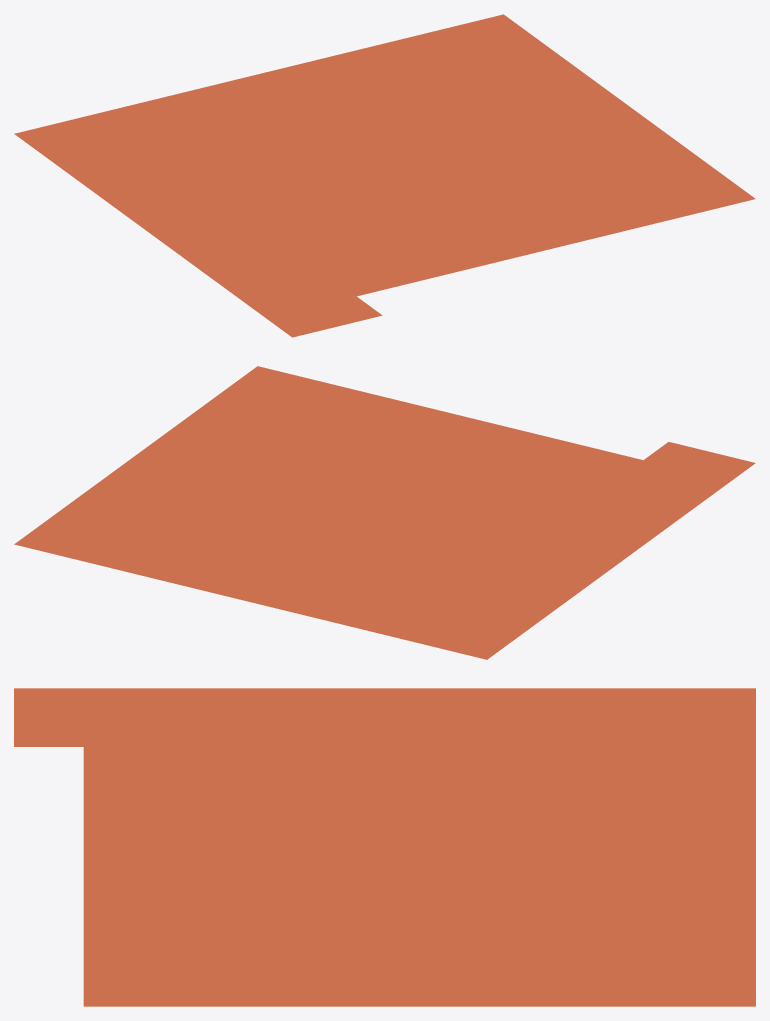
File: Floor.fbx
3 views of the same model, one above another, from view 1: azimuth 30°, elevation 25°; view 2: azimuth 150°, elevation 25°; view 3: azimuth 270°, elevation 25° (orthographic). The views are drawn at different scales.
Parts seen in each view (by area): view 1: Floor; view 2: Floor; view 3: Floor.
Boxes of the visible parts, x1,y1,x2,y2 form: Floor: [14, 14, 755, 337]; Floor: [14, 366, 755, 659]; Floor: [14, 688, 755, 1006].
Size of the model in its own units: 1300 by 0.000209 by 1280.
